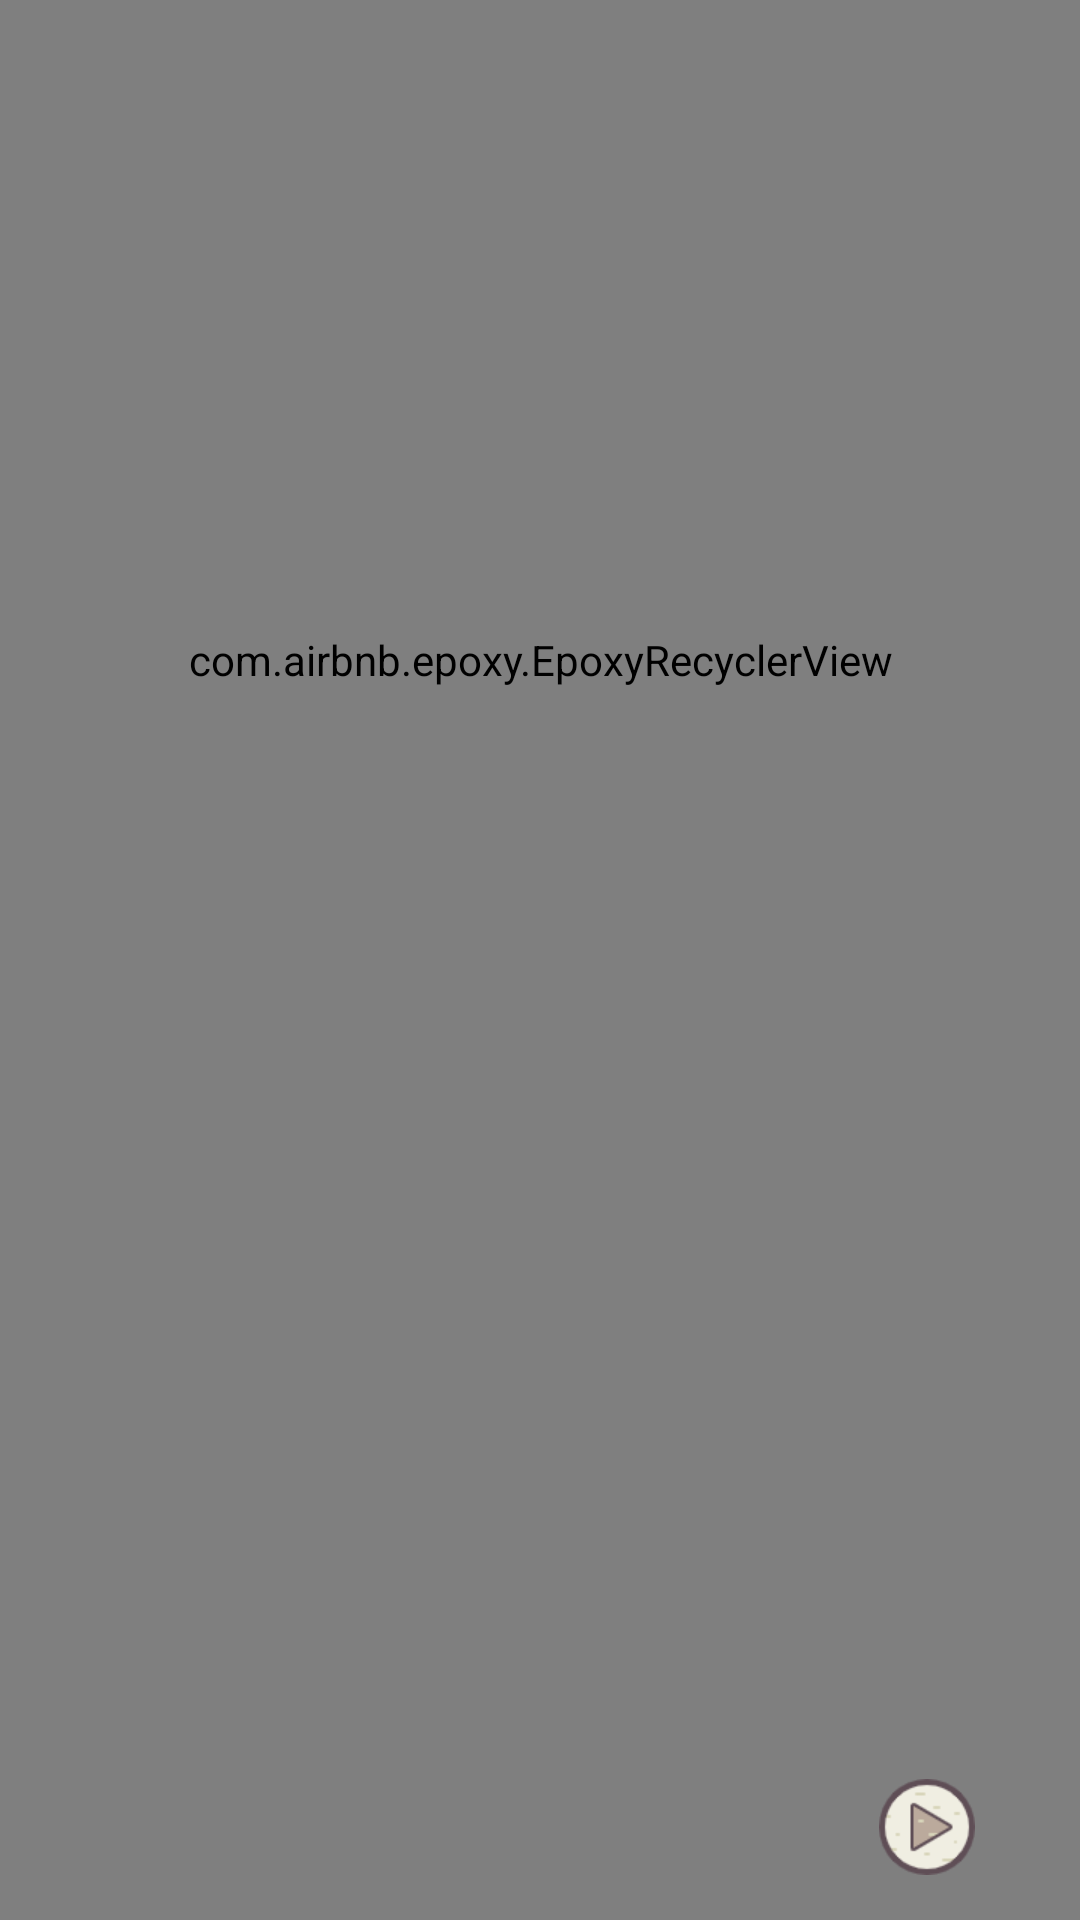

Point at icon controls on the screen. Image size 1080×1920, points as point (x, y).
play: point (927, 1827)
